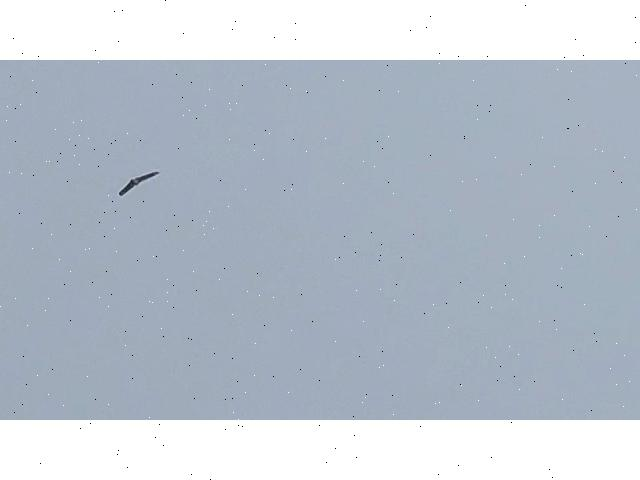Anti-Drone: (118, 170, 162, 197)
